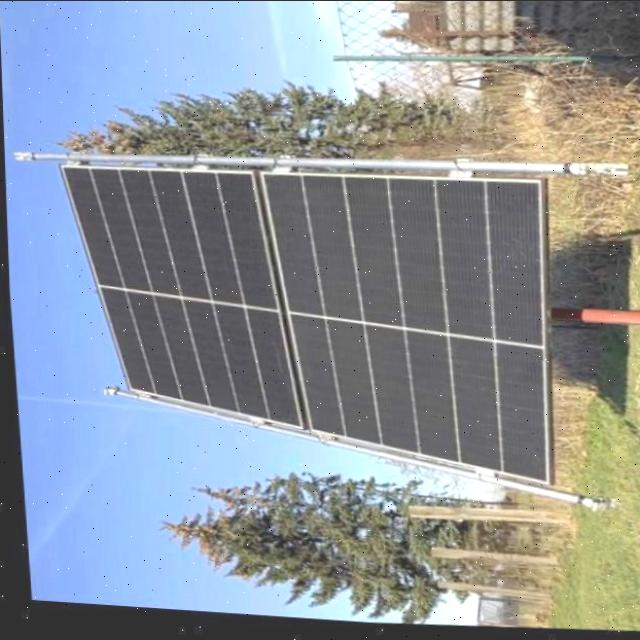Normal Solar Panel: (58, 154, 560, 503)
